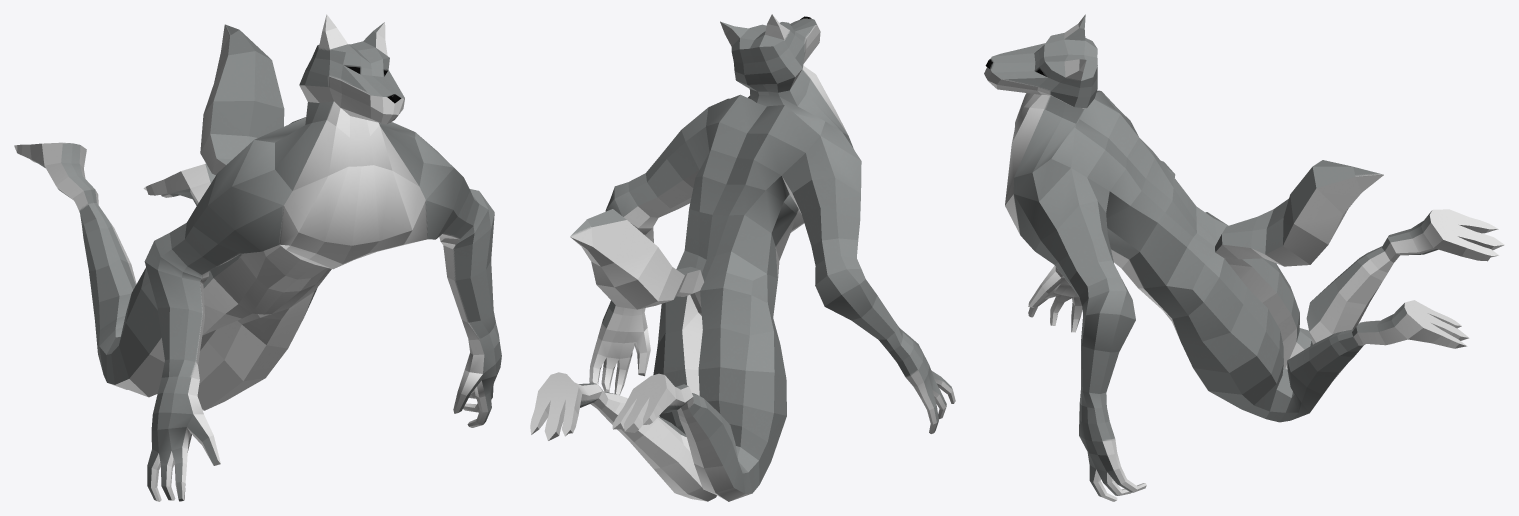
Rendered from WolfDead(61).obj.
3 views of the same model, side by side, from view 1: azimuth 30°, elevation 25°; view 2: azimuth 150°, elevation 25°; view 3: azimuth 270°, elevation 25° (orthographic). The views are drawn at different scales.
Parts seen in each view (by area): view 1: Box001; view 2: Box001; view 3: Box001.
Part boxes in pixels (x1,y1,x2,y2): Box001: (14,14,501,501); Box001: (530,14,955,501); Box001: (984,14,1504,501).
Size of the model in its own units: 87.3 by 105 by 119.
